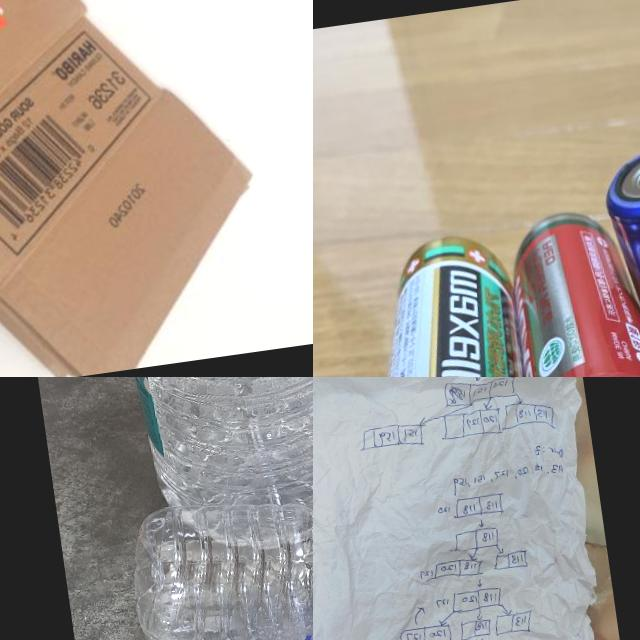bateria: (337, 224, 550, 377), (499, 197, 640, 377)
garrafa plástica: (92, 377, 313, 553), (129, 454, 313, 640)
papel: (313, 377, 631, 640)
papelão: (0, 0, 276, 377)
